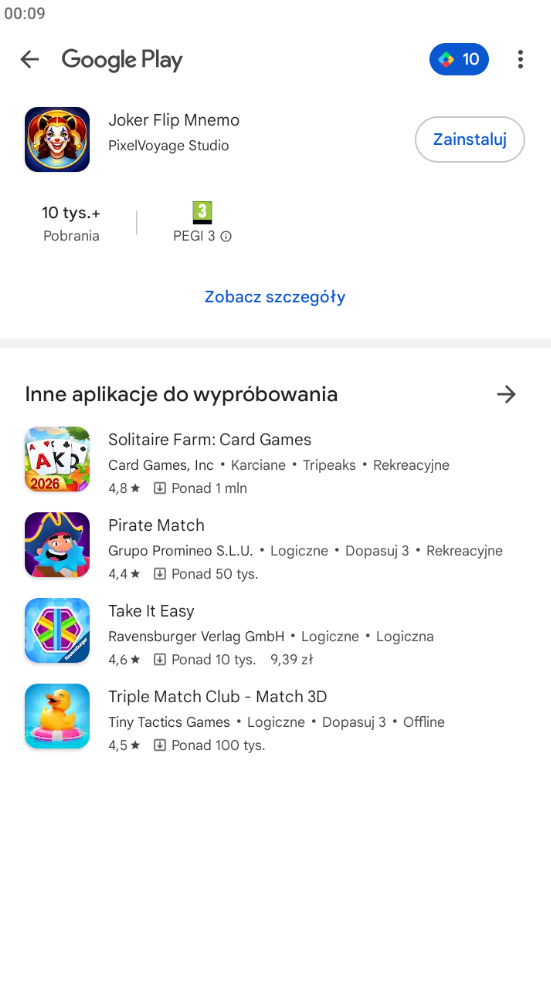store_logo: (53, 39, 193, 83)
